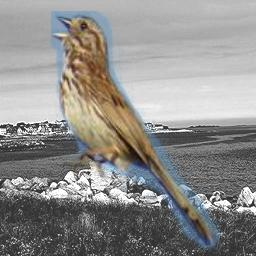Sparrow: (51, 11, 221, 250)
